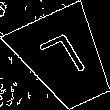L_SE: (36, 30, 94, 89)
